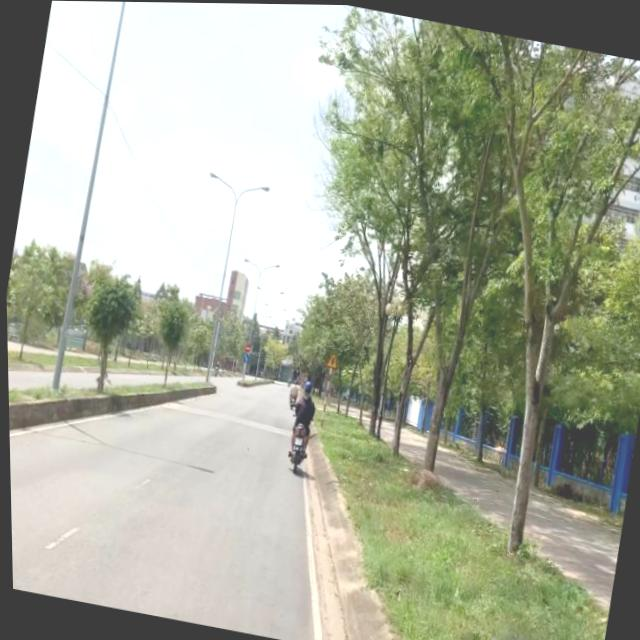Cam di nguoc chieu: (242, 342, 249, 352)
Giao nhau voi duong khong uu tien ben phai: (322, 349, 339, 370)
Vong chuong ngai vat sang phai: (240, 351, 248, 362)
